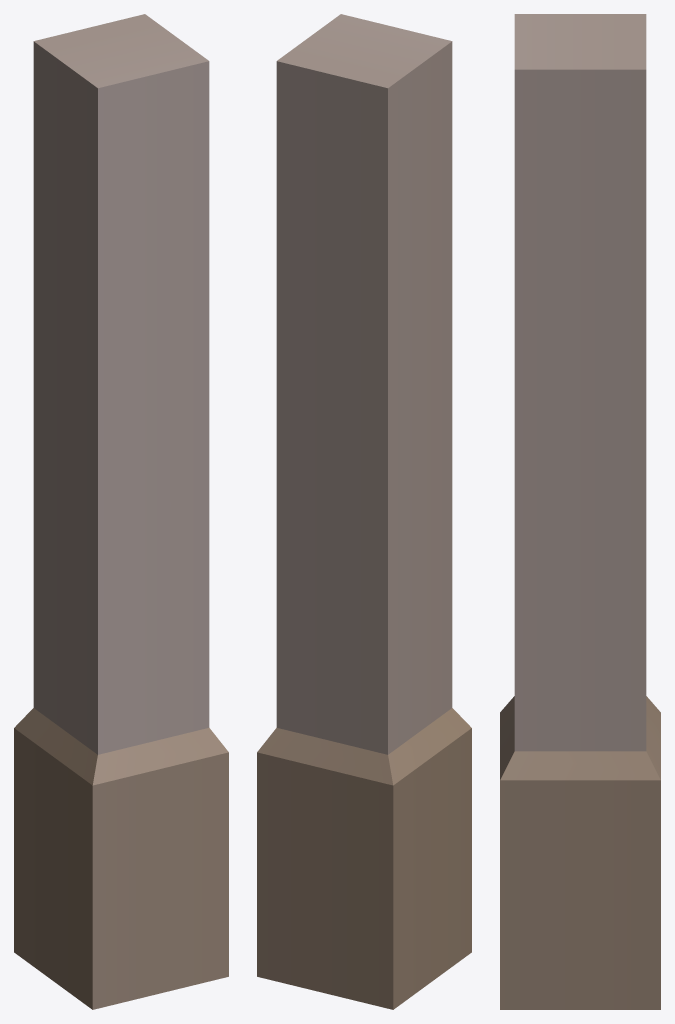
The model's file is B01_Corner_wall_2.fbx.
3 renders of one model, left to right at view 1: azimuth 30°, elevation 25°; view 2: azimuth 150°, elevation 25°; view 3: azimuth 270°, elevation 25°, orthographic. The views are drawn at different scales.
Visible parts, largest first — view 1: B01_Corner_wall_2; view 2: B01_Corner_wall_2; view 3: B01_Corner_wall_2.
Part boxes in pixels (bbox=[...]): B01_Corner_wall_2: bbox=[14, 14, 228, 1009]; B01_Corner_wall_2: bbox=[257, 14, 471, 1009]; B01_Corner_wall_2: bbox=[500, 14, 660, 1009].
Size of the model in its own units: 47.6 by 305 by 47.6.
